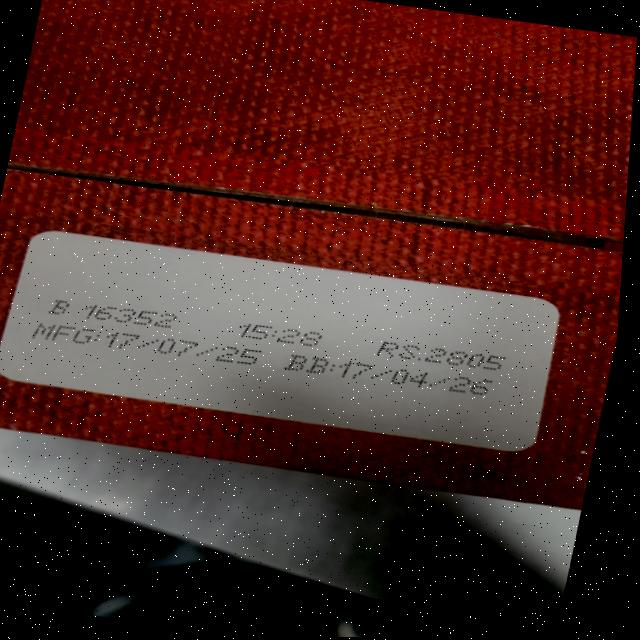BB: (279, 346, 513, 407)
Batch: (47, 293, 192, 336)
MFG: (29, 316, 269, 371)
RS: (370, 334, 514, 378)
TimeStamp: (229, 318, 341, 356)
